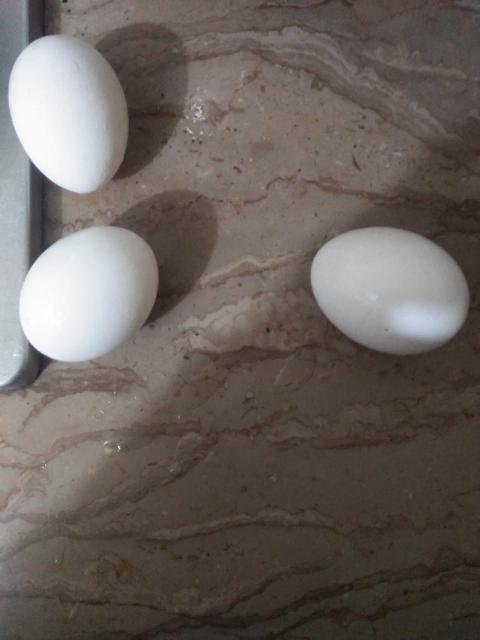Sano: (312, 228, 470, 356), (7, 33, 127, 198), (19, 224, 159, 363)
